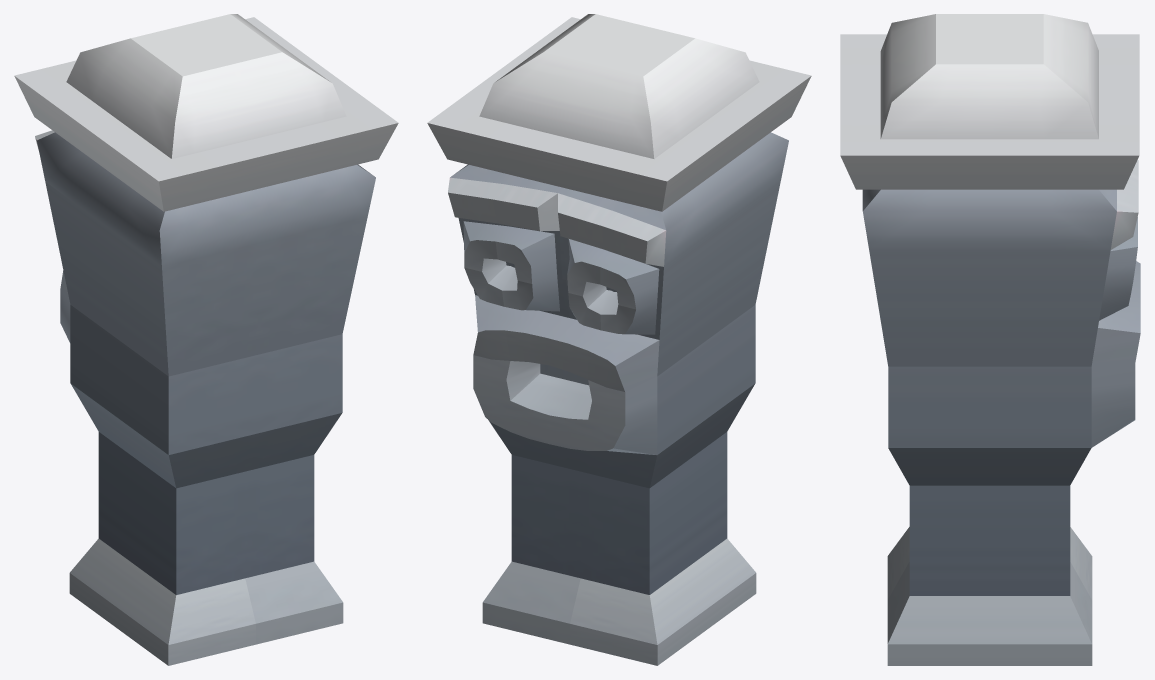
File: TikiStone.fbx
The picture shows the model from 3 angles, left to right: view 1: azimuth 30°, elevation 25°; view 2: azimuth 150°, elevation 25°; view 3: azimuth 270°, elevation 25°; orthographic projection. The views are drawn at different scales.
Visible parts, largest first — view 1: pCube18; view 2: pCube18; view 3: pCube18.
Boxes of the visible parts, x1,y1,x2,y2 form: pCube18: (14,14,398,665); pCube18: (427,14,811,665); pCube18: (840,14,1140,665).
Size of the model in its own units: 1.52 by 3.41 by 1.59.
